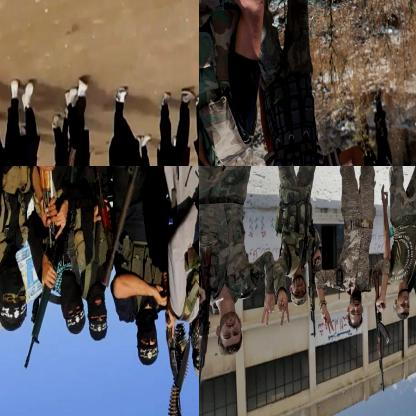rifle: (96, 166, 169, 291), (20, 239, 63, 366), (149, 319, 196, 415), (33, 166, 79, 253), (368, 270, 392, 393), (199, 243, 215, 397), (304, 240, 326, 336), (407, 246, 415, 312), (383, 151, 414, 165)
